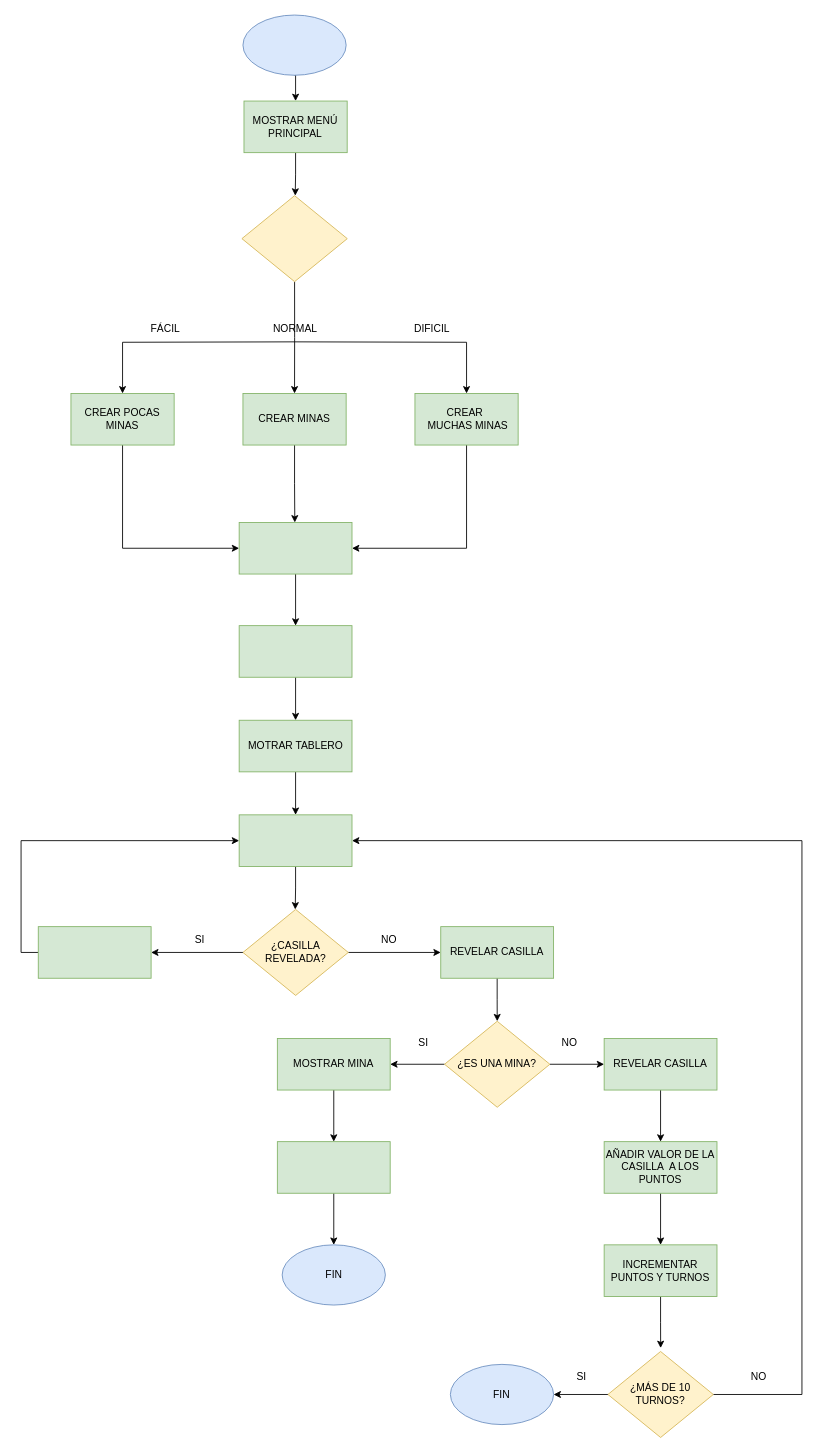
This 824x1453 diagram has some shape labels left out. The shapes that lost their labels are listed below. From the top down, each one's box as (x1, y1, x2, y2) in pixels, then its label:
(242, 14, 346, 75): INICIO
(241, 195, 347, 282): ¿DIFICULTAD?
(238, 522, 352, 574): GENERAR TABLERO 5X5 CON CANTIDAD DE MINAS ESCOGIDA
(238, 625, 352, 677): INICIALIZAR PUNTUACIÓN Y TURNO A 0
(238, 814, 352, 866): SELECCIONAR CASILLA
(37, 926, 151, 978): MOSTRAR MENSAJE CASILLA YA REVELADA
(276, 1141, 390, 1193): MENSAJE DERROTA
